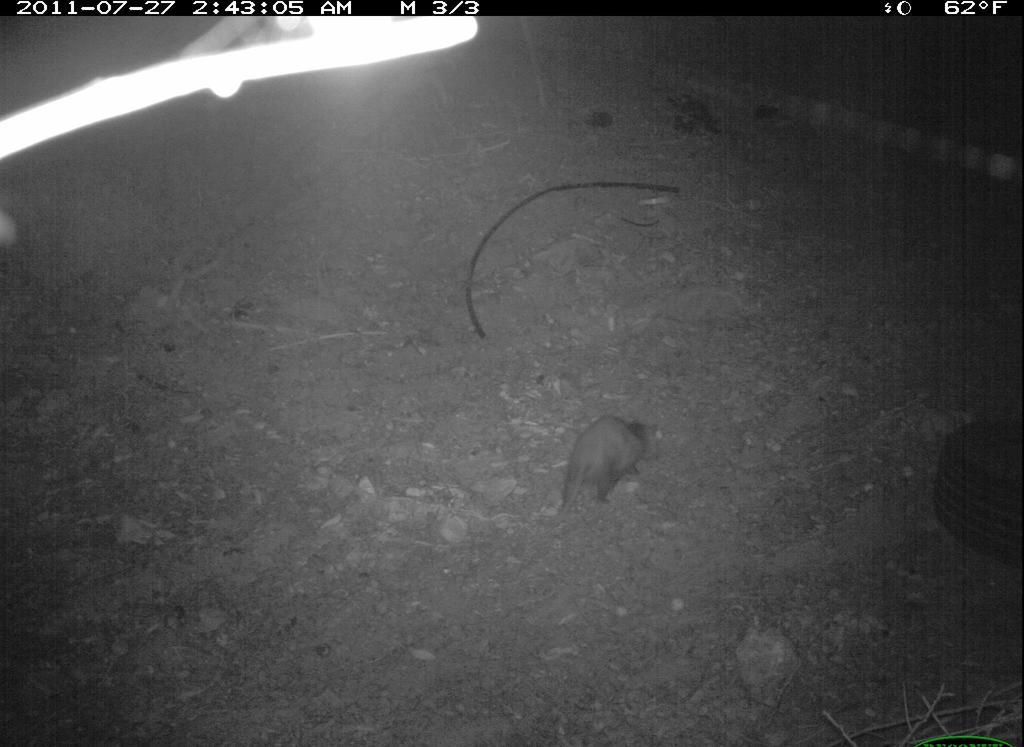opossum: (543, 410, 654, 536)
